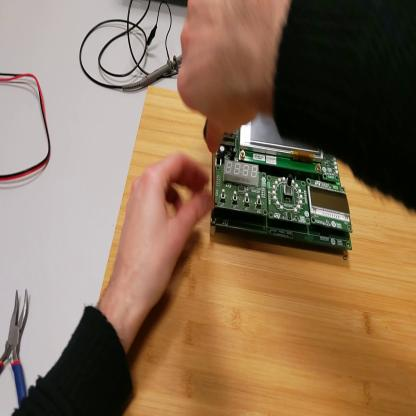hand: (177, 2, 288, 156), (115, 152, 212, 315)
low voltage board: (213, 104, 357, 259)
oscilloscope probe tip: (124, 51, 182, 89)
pliers: (2, 290, 32, 408)
screwdriver-: (201, 121, 217, 216)
working area: (99, 85, 416, 416)
